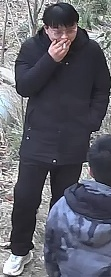smoking: (13, 7, 94, 86)
